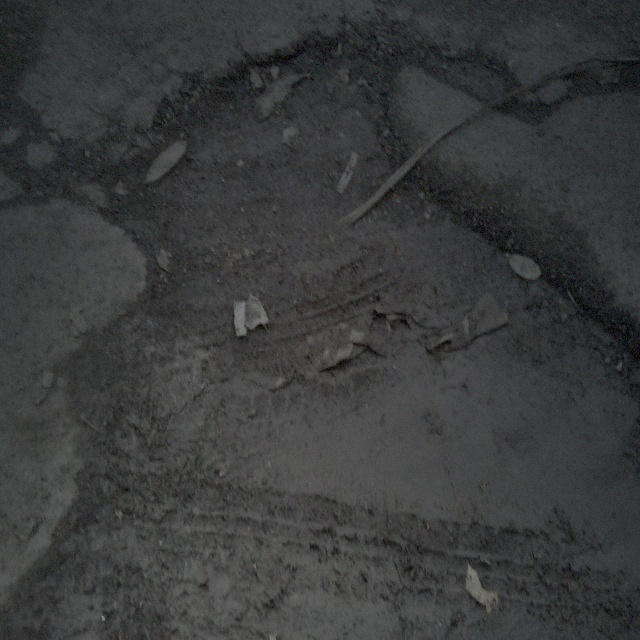pothole: (46, 14, 634, 527)
